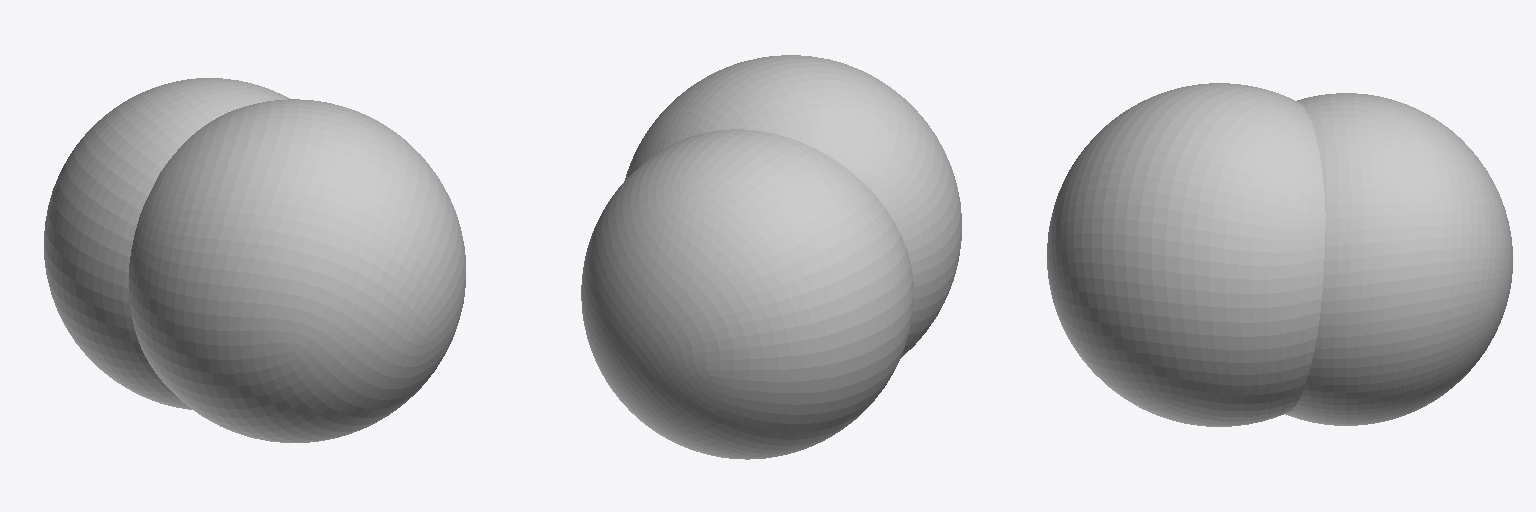
Rendered from surprissed.obj.
The picture shows the model from 3 angles: view 1: azimuth 30°, elevation 25°; view 2: azimuth 150°, elevation 25°; view 3: azimuth 270°, elevation 25°; orthographic projection.
Visible parts, largest first — view 1: Group13301, Group7782; view 2: Group7782, Group13301; view 3: Group13301, Group7782.
Part boxes in pixels (left/top/right/bottom): Group13301: left=128, top=99, right=465, bottom=442; Group7782: left=44, top=78, right=289, bottom=409; Group7782: left=581, top=129, right=913, bottom=459; Group13301: left=625, top=55, right=961, bottom=357; Group13301: left=1047, top=83, right=1325, bottom=426; Group7782: left=1285, top=93, right=1512, bottom=425.
Bounding box in the file's own units: 2.38 × 2.33 × 3.06.